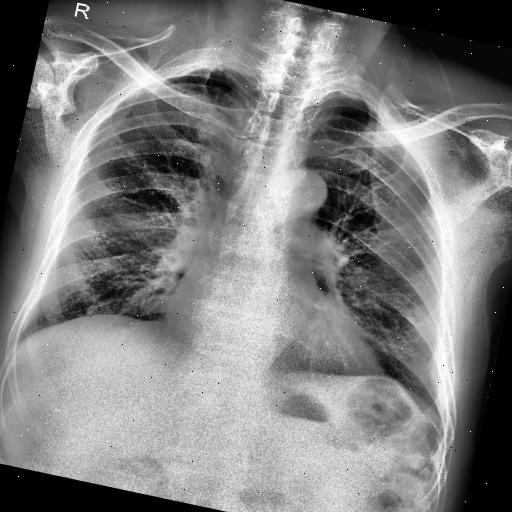0- Aortic enlargement: (260, 161, 332, 217), (264, 162, 331, 218), (274, 162, 332, 224)
11- Pleural thickening: (160, 51, 226, 95), (335, 88, 394, 121)
